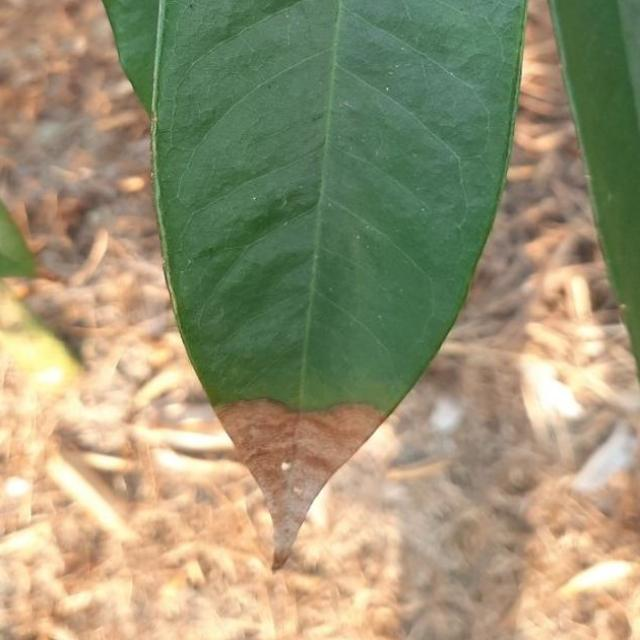Leaf Blight: (123, 2, 536, 586)
